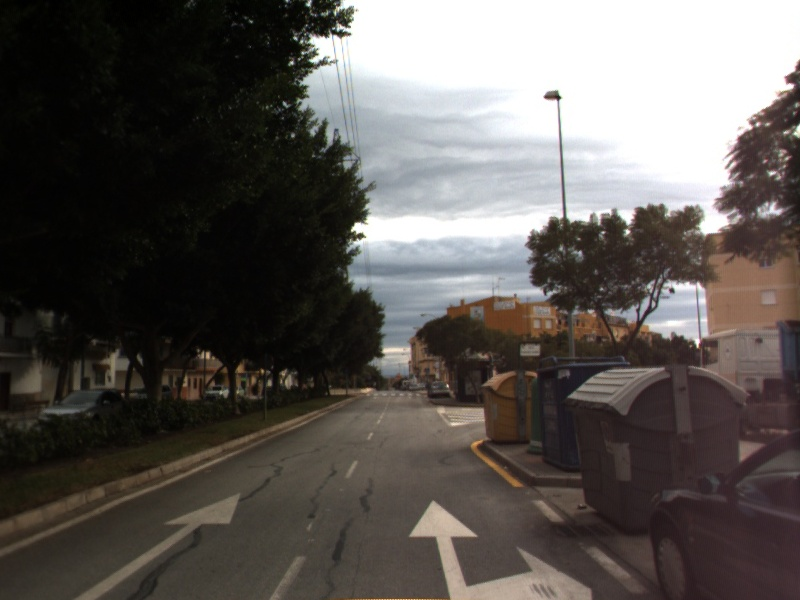STRAIGHT: (68, 489, 243, 600)
STRAIGHT_RIGHT: (406, 496, 597, 600)
